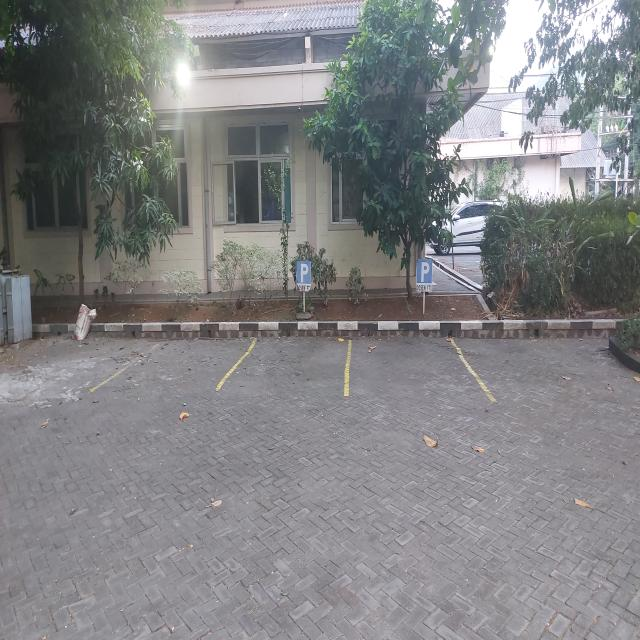empty: (447, 333, 640, 404), (345, 334, 493, 398), (90, 338, 259, 391), (216, 337, 351, 396)
